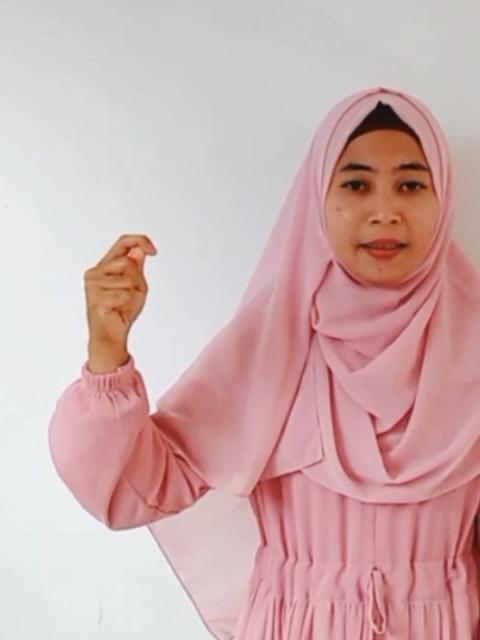T: (80, 229, 158, 349)
